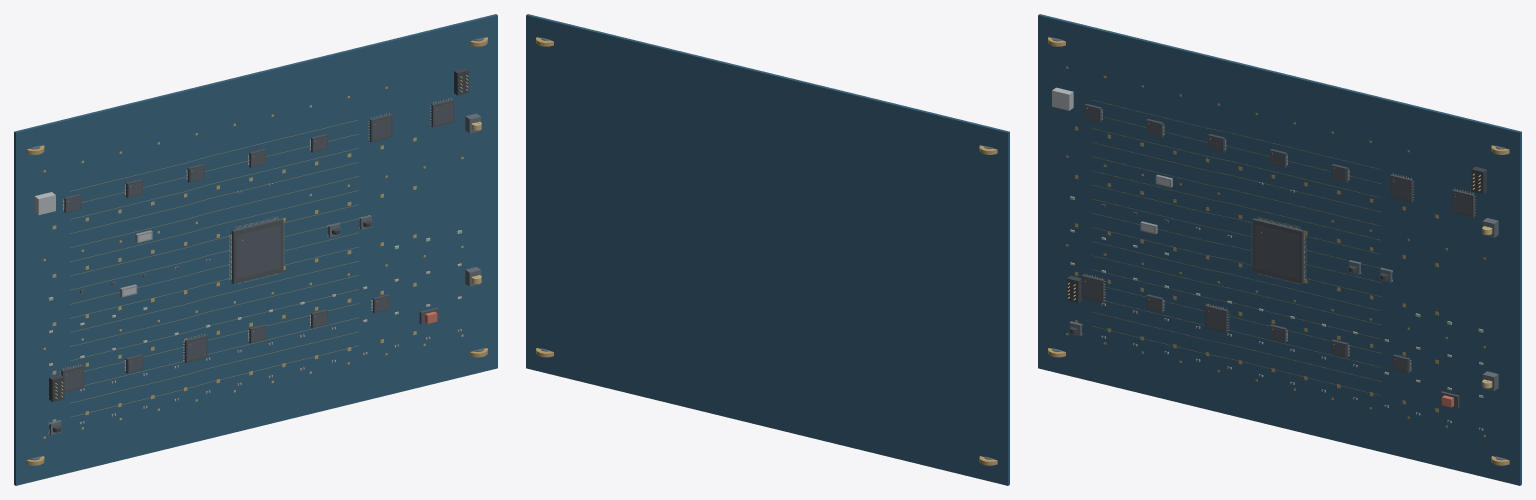
File: L102_Assembled_Reference.glb
The picture shows the model from 3 angles, left to right: view 1: azimuth 30°, elevation 25°; view 2: azimuth 150°, elevation 25°; view 3: azimuth 330°, elevation 25°; orthographic projection.
Parts seen in each view (by area): view 1: PART_1231_PCB_Navy, PART_001_Ceramic_Black, PART_000_IC_Epoxy; view 2: PART_1231_PCB_Navy; view 3: PART_1231_PCB_Navy, PART_001_Ceramic_Black, PART_000_IC_Epoxy.
Part boxes in pixels (left/top/right/bottom): PART_1231_PCB_Navy: left=14, top=14, right=497, bottom=485; PART_001_Ceramic_Black: left=236, top=225, right=280, bottom=278; PART_000_IC_Epoxy: left=231, top=218, right=283, bottom=284; PART_1231_PCB_Navy: left=526, top=14, right=1009, bottom=485; PART_1231_PCB_Navy: left=1038, top=14, right=1521, bottom=485; PART_001_Ceramic_Black: left=1255, top=225, right=1299, bottom=278; PART_000_IC_Epoxy: left=1252, top=218, right=1304, bottom=284.
Size of the model in its own units: 0.25 by 0.175 by 0.013.
